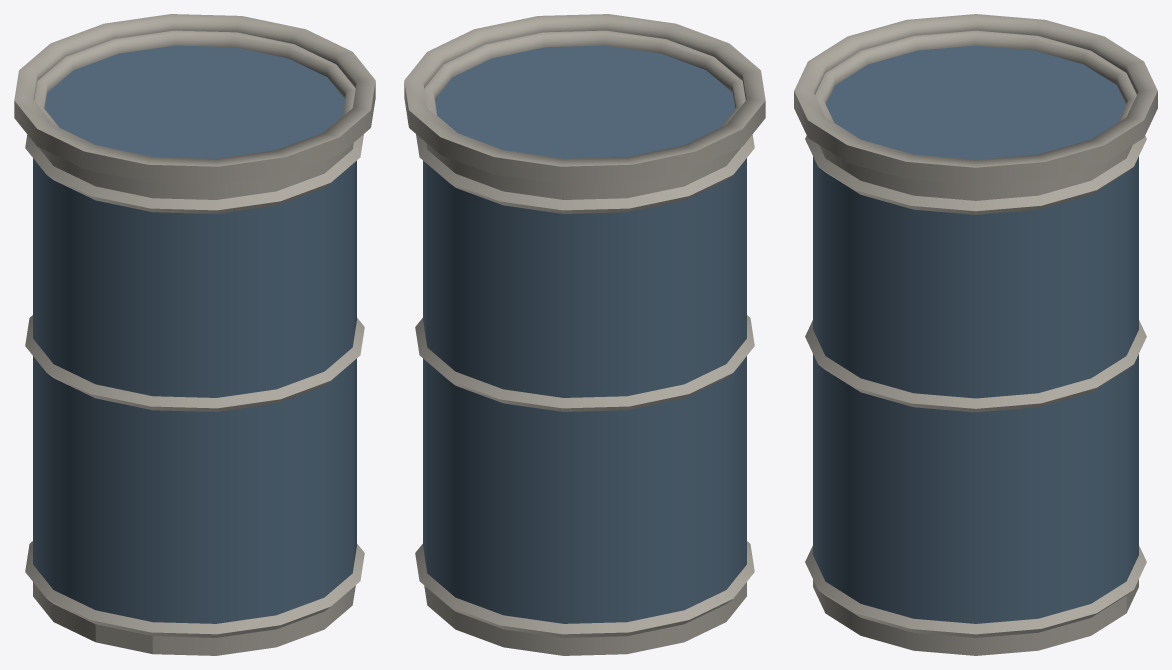
The model's file is barrel_01.fbx.
3 views of the same model, side by side, from view 1: azimuth 30°, elevation 25°; view 2: azimuth 150°, elevation 25°; view 3: azimuth 270°, elevation 25° (orthographic).
Visible parts, largest first — view 1: barrel_01; view 2: barrel_01; view 3: barrel_01.
Boxes of the visible parts, x1,y1,x2,y2 form: barrel_01: [14, 14, 375, 655]; barrel_01: [404, 14, 765, 655]; barrel_01: [794, 14, 1157, 655].
Size of the model in its own units: 70.67 by 106 by 70.67.
